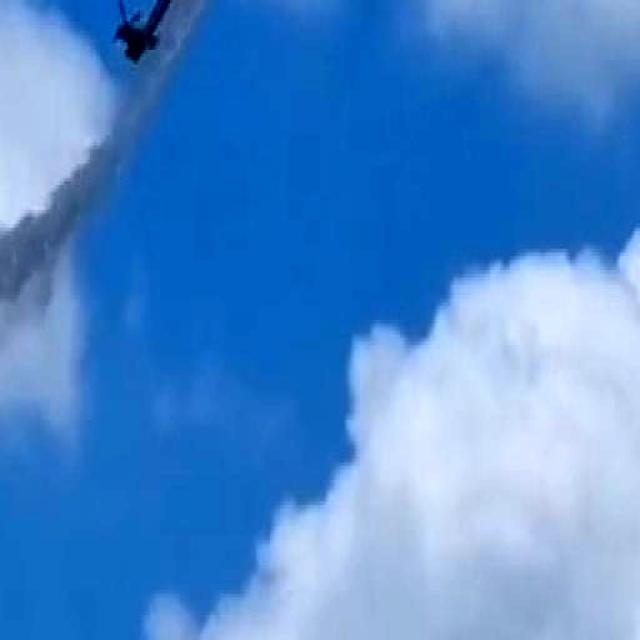drone: (114, 0, 261, 59)
